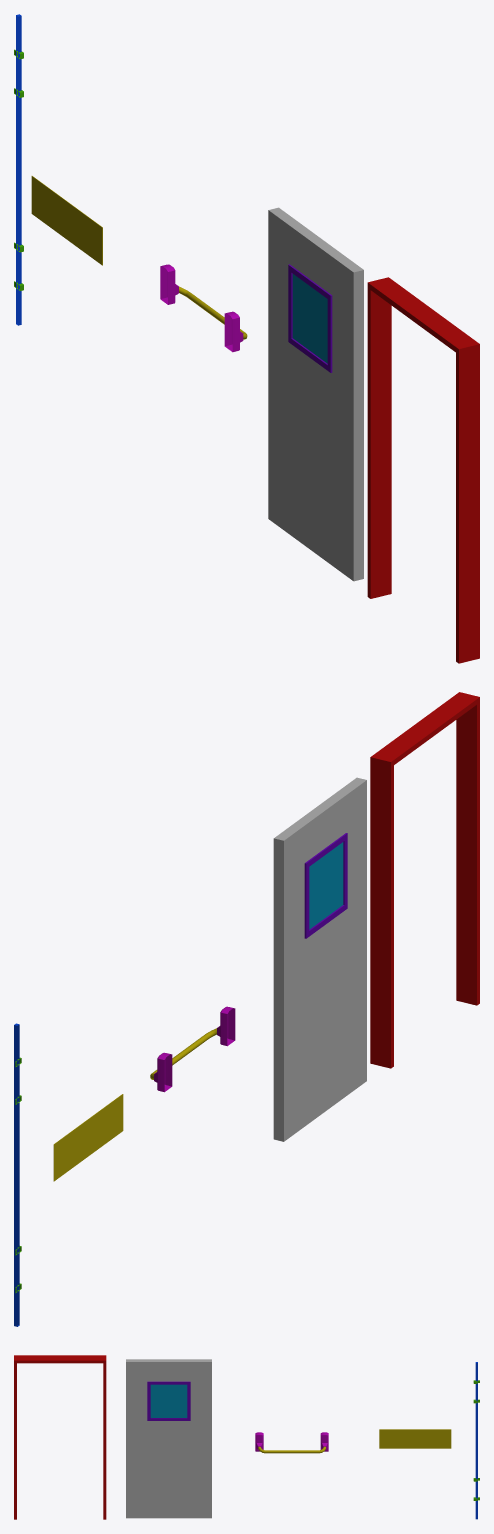
3 renders of one model, top to bottom at view 1: azimuth 30°, elevation 25°; view 2: azimuth 150°, elevation 25°; view 3: azimuth 270°, elevation 25°, orthographic. The views are drawn at different scales.
Parts seen in each view (by area): view 1: Door_high, DoorFrame_high, HandleBack_high, Glass_high, Bar_high, Handle_high, GlassFrame_high; view 2: Door_high, DoorFrame_high, HandleBack_high, Glass_high, Bar_high, Handle_high, GlassFrame_high; view 3: Door_high, DoorFrame_high, HandleBack_high, Glass_high, Handle_high, GlassFrame_high, Bar_high.
Part boxes in pixels (box(x1,y1,x2,y2)): Door_high: box(268, 207, 363, 581); DoorFrame_high: box(367, 277, 479, 663); HandleBack_high: box(31, 176, 102, 265); Glass_high: box(292, 274, 327, 363); Bar_high: box(16, 14, 21, 325); Handle_high: box(160, 264, 247, 352); GlassFrame_high: box(288, 264, 332, 372); Door_high: box(273, 777, 366, 1141); DoorFrame_high: box(370, 692, 479, 1068); HandleBack_high: box(53, 1094, 123, 1181); Glass_high: box(309, 842, 343, 929); Bar_high: box(14, 1023, 19, 1326); Handle_high: box(150, 1006, 235, 1092); GlassFrame_high: box(304, 833, 347, 938); Door_high: box(126, 1359, 211, 1518); DoorFrame_high: box(14, 1355, 106, 1519); HandleBack_high: box(379, 1429, 451, 1448); Glass_high: box(150, 1384, 187, 1417); Handle_high: box(255, 1432, 328, 1453); GlassFrame_high: box(147, 1381, 190, 1420); Bar_high: box(475, 1362, 477, 1519).
Bounding box in the file's own units: 0.3301 × 2.85 × 7.57.
